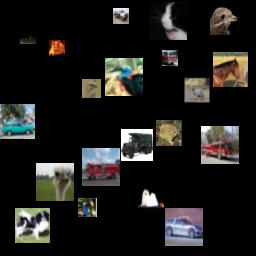automobile: (165, 208, 203, 246), (0, 104, 35, 139)
bird: (36, 163, 74, 201), (105, 58, 143, 96), (210, 3, 242, 35), (184, 77, 210, 103), (78, 198, 97, 217), (82, 79, 101, 98)
cat: (149, 2, 187, 40), (49, 40, 65, 56)
deer: (20, 28, 36, 44)
dog: (15, 208, 50, 243), (138, 184, 164, 210)
frog: (156, 120, 182, 146)
truck: (201, 126, 239, 164), (82, 148, 120, 186), (121, 129, 153, 161), (113, 8, 129, 24), (162, 50, 178, 66)
